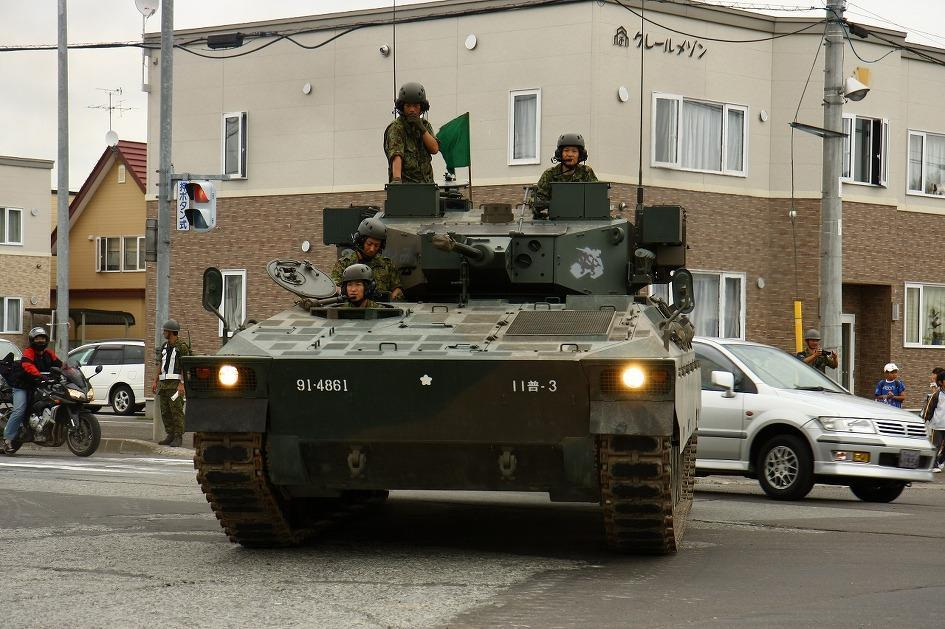MIL_IFV: (174, 82, 697, 558)
